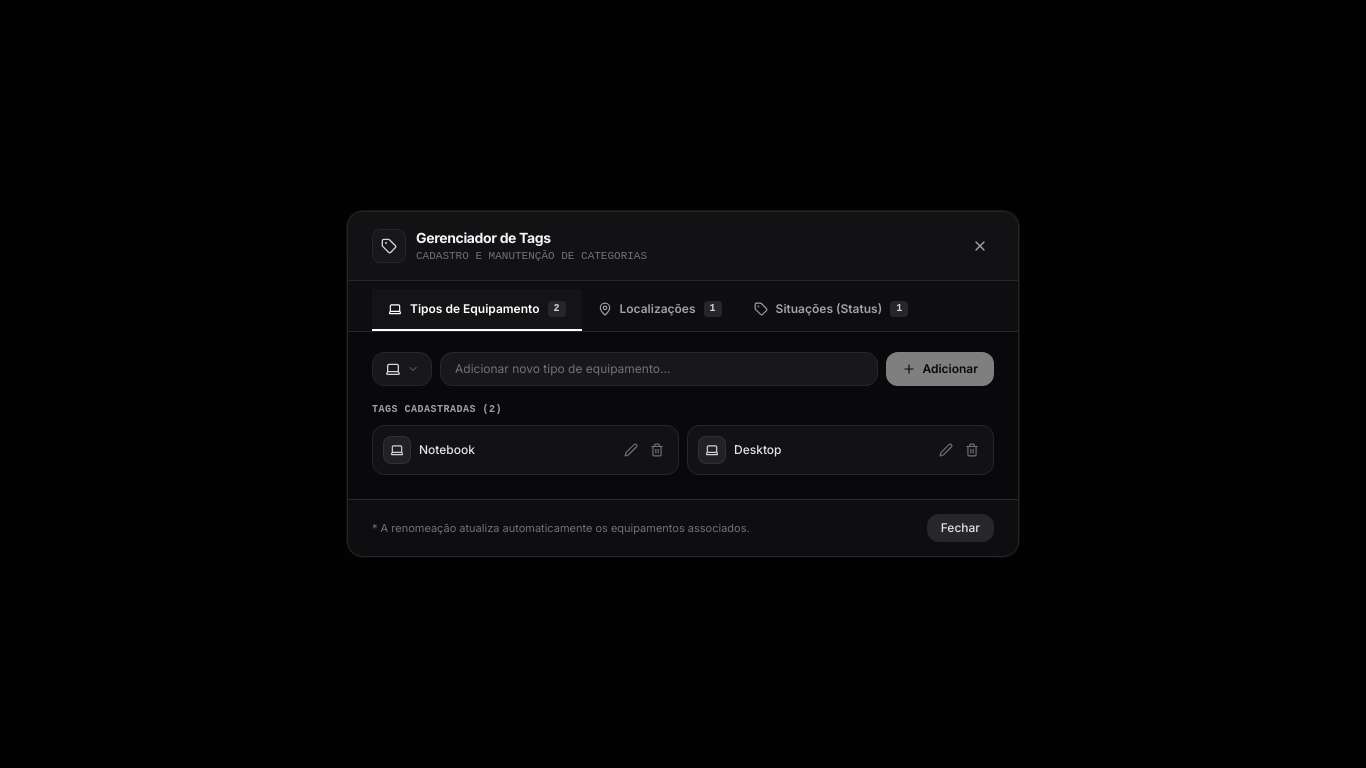
Test: Componente ManageTagsModal › Cadastra uma nova tag com sucesso
Expected: the text "Notebook" is shown, x1=419 y1=442 x2=475 y2=458
Type "Tablet" into the field with placeholder "Adicionar novo tipo de equipamento..." at (659, 369), box x1=440 y1=352 x2=878 y2=386
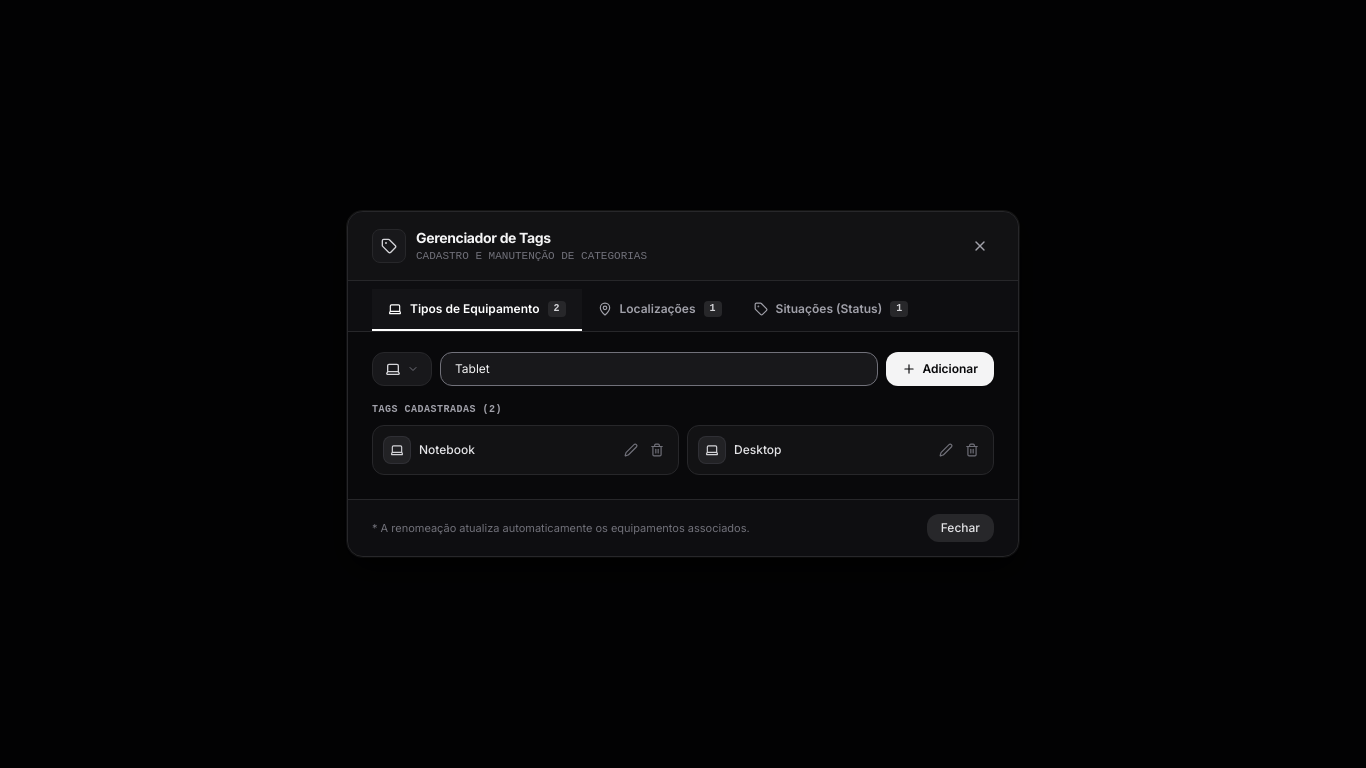
Click the button with test id "add-tag-btn" at (940, 369), box x1=886 y1=352 x2=994 y2=386
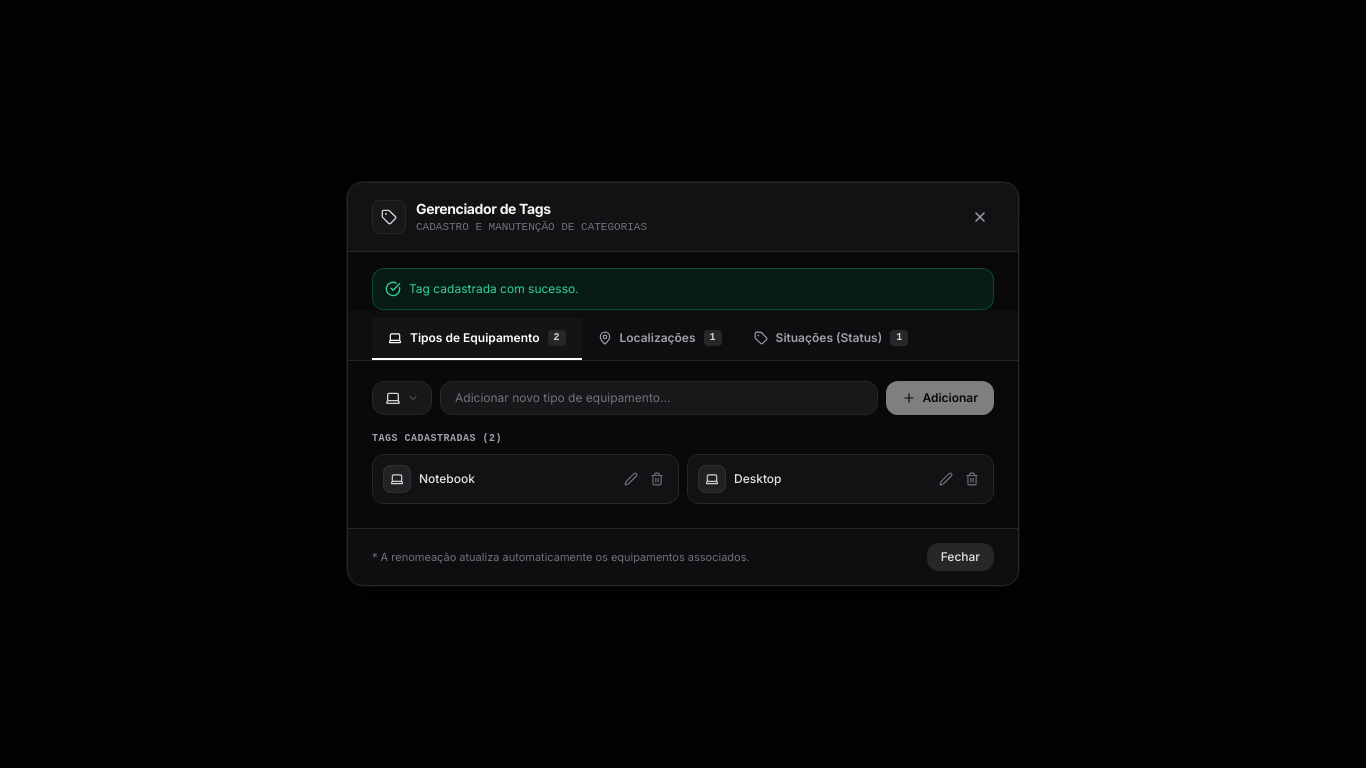
Expected: the text "Tag cadastrada com sucesso." is shown, x1=409 y1=281 x2=579 y2=297
